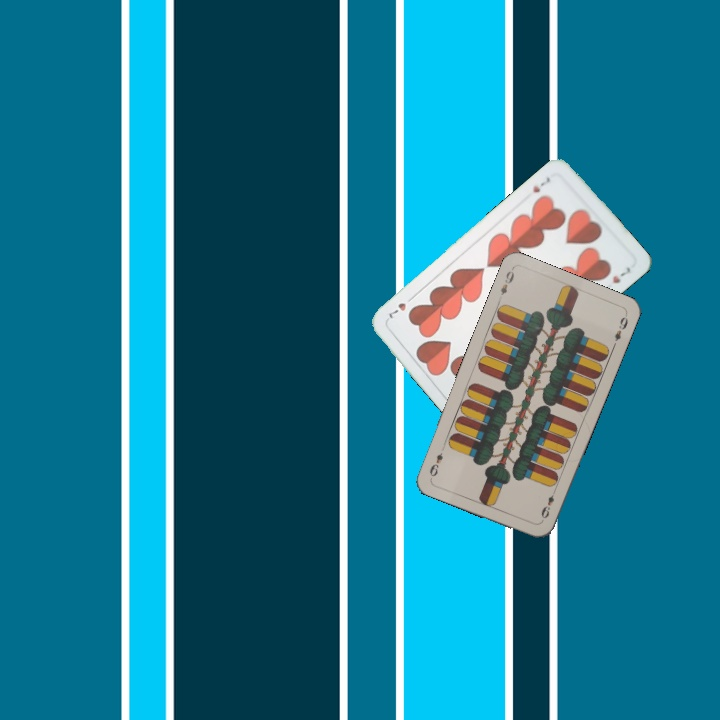E9: (494, 267, 517, 304), (537, 486, 559, 521)
H7: (529, 173, 553, 195)
